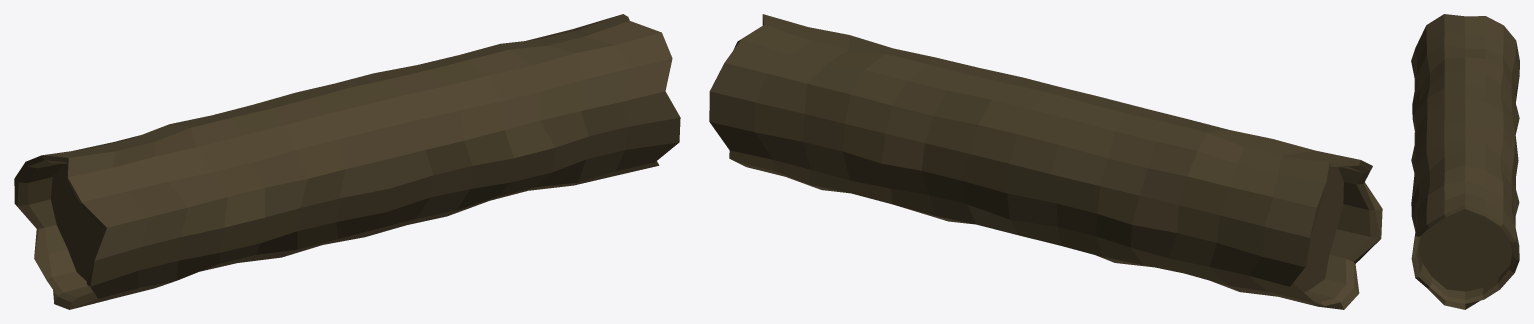
File: log.fbx
3 views of the same model, side by side, from view 1: azimuth 30°, elevation 25°; view 2: azimuth 150°, elevation 25°; view 3: azimuth 270°, elevation 25° (orthographic). The views are drawn at different scales.
Visible parts, largest first — view 1: Cylinder.003; view 2: Cylinder.003; view 3: Cylinder.003.
Part boxes in pixels (left/top/right/bottom): Cylinder.003: left=14, top=14, right=680, bottom=309; Cylinder.003: left=709, top=14, right=1382, bottom=309; Cylinder.003: left=1411, top=14, right=1519, bottom=309.
Size of the model in its own units: 200 by 46.39 by 45.83.
